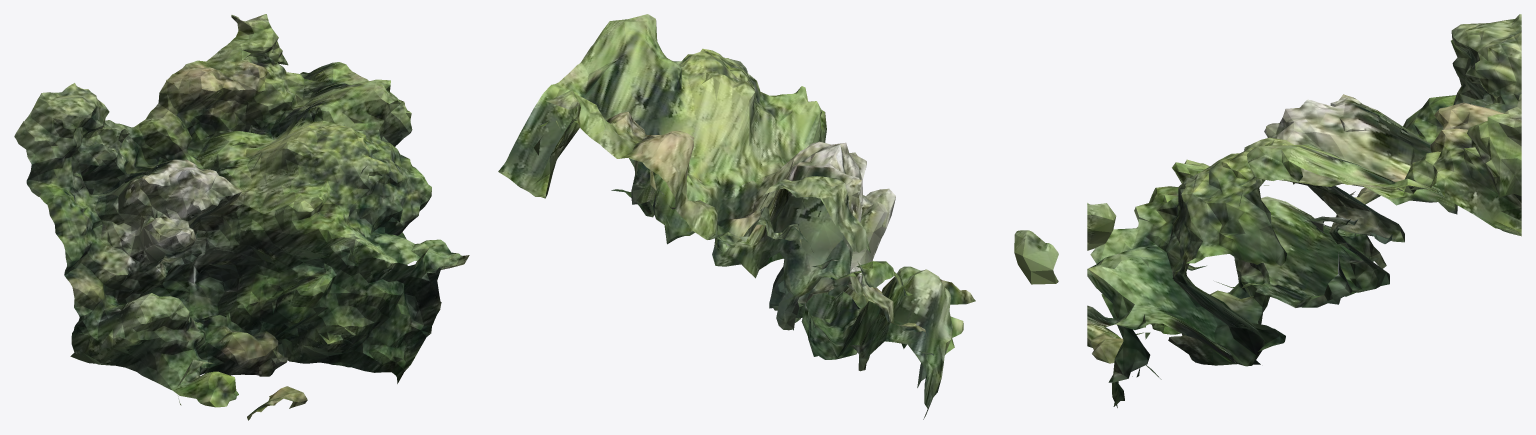
3 views of the same model, side by side, from view 1: azimuth 30°, elevation 25°; view 2: azimuth 150°, elevation 25°; view 3: azimuth 270°, elevation 25° (orthographic). The views are drawn at different scales.
Size of the model in its own units: 26.11 by 21.4 by 26.11.
5 materials, 5 textured.
